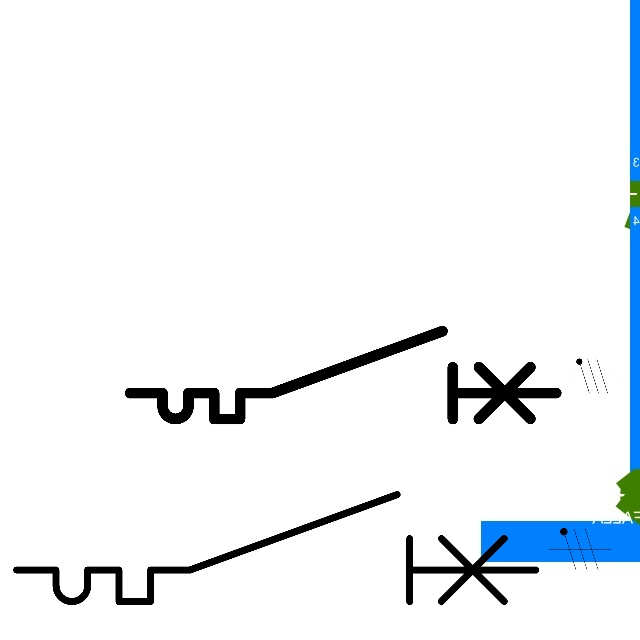interruptor_termomagnetico: (3, 481, 549, 615), (119, 320, 567, 430)
